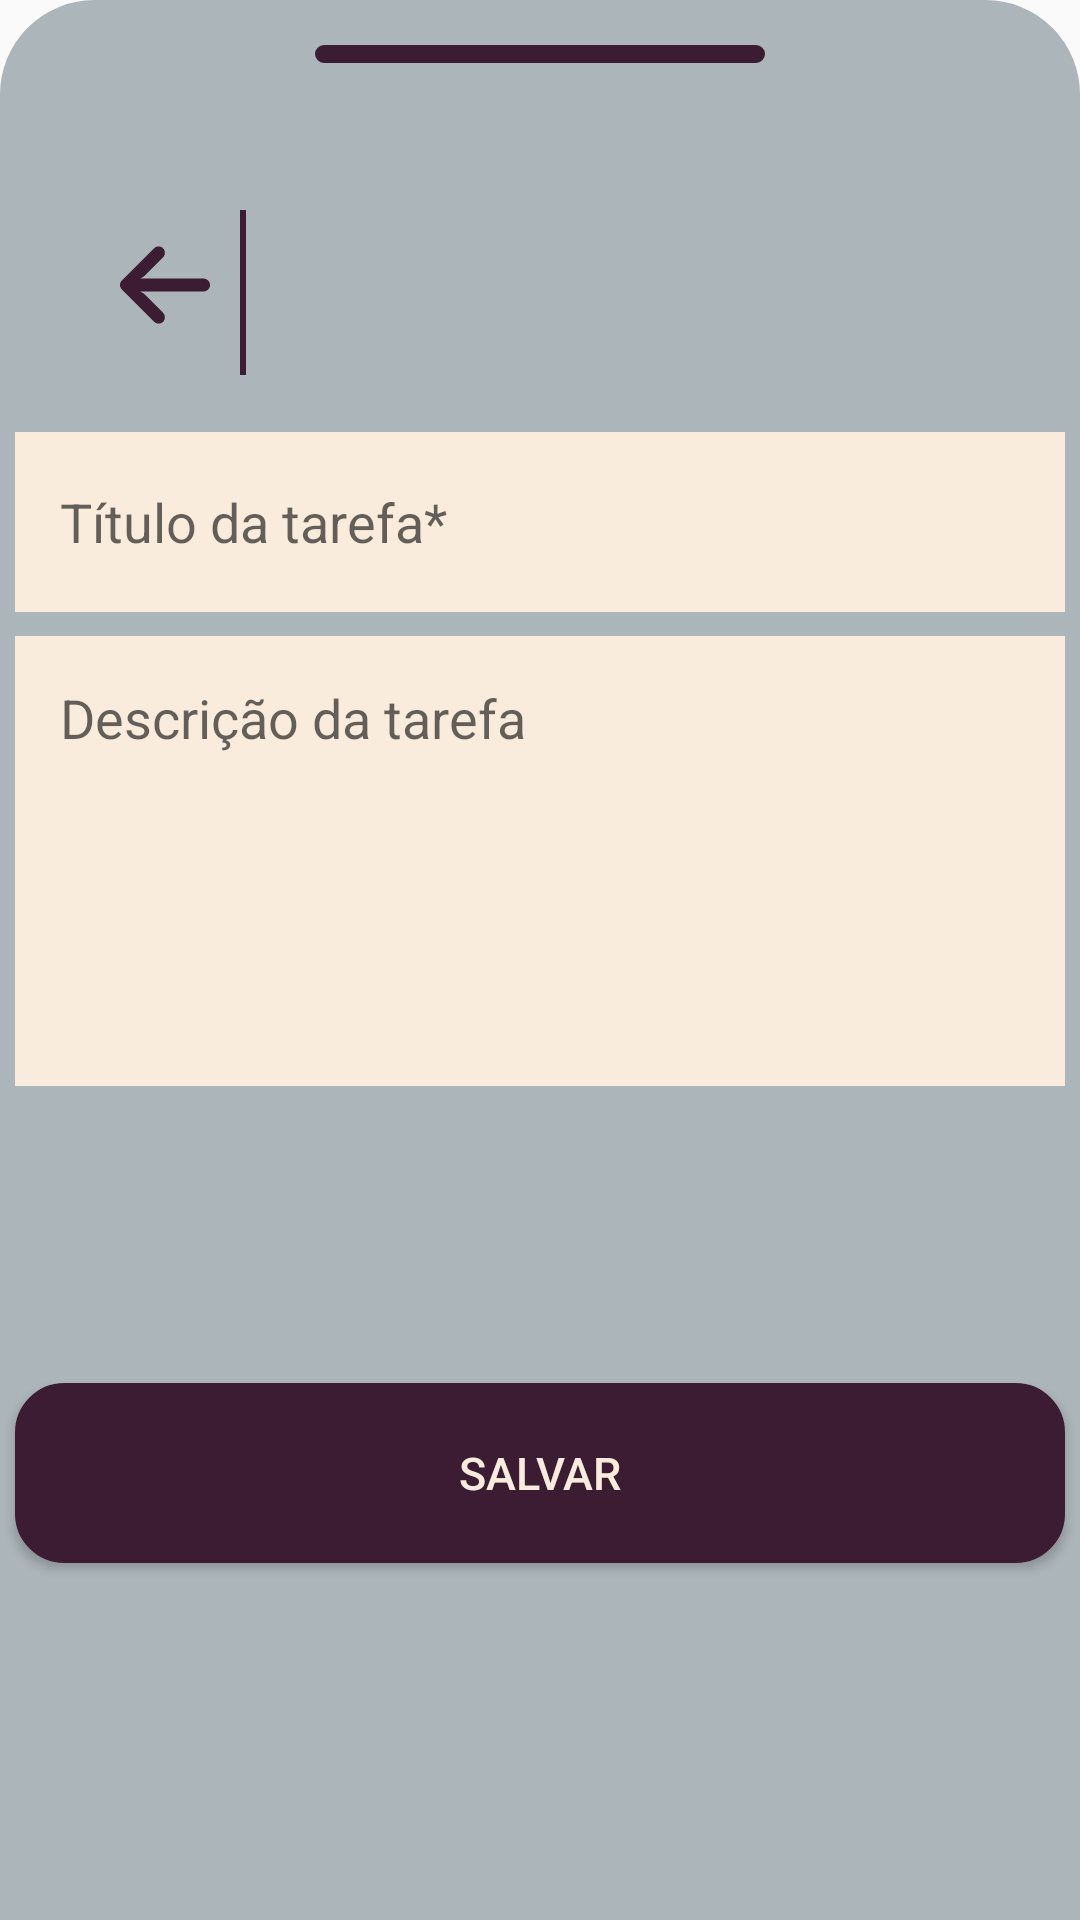

Locate icon controls on the screen. Image size 1080 × 1920, boxes as (x1, y1, x2, y2).
arrow: (120, 246, 210, 324)
